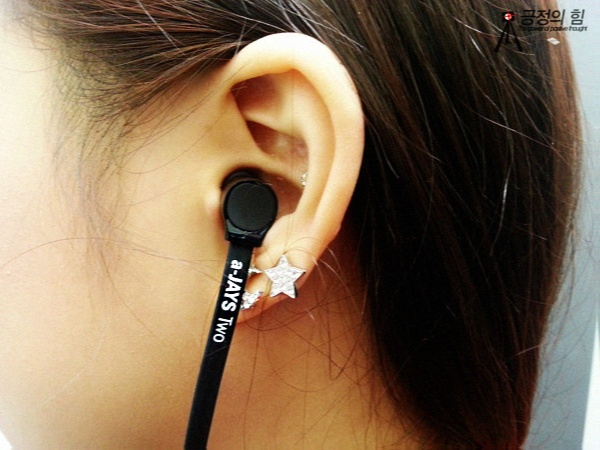earphone: (209, 35, 368, 320)
